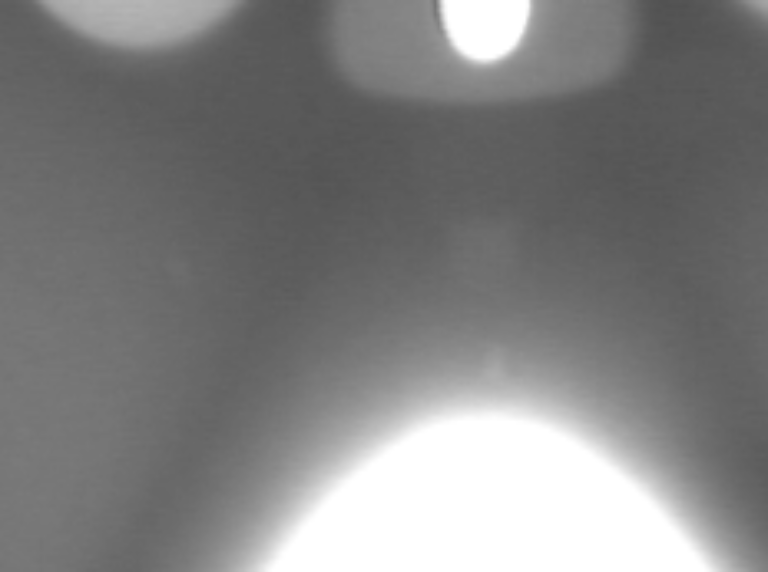defect: (179, 250, 209, 301)
